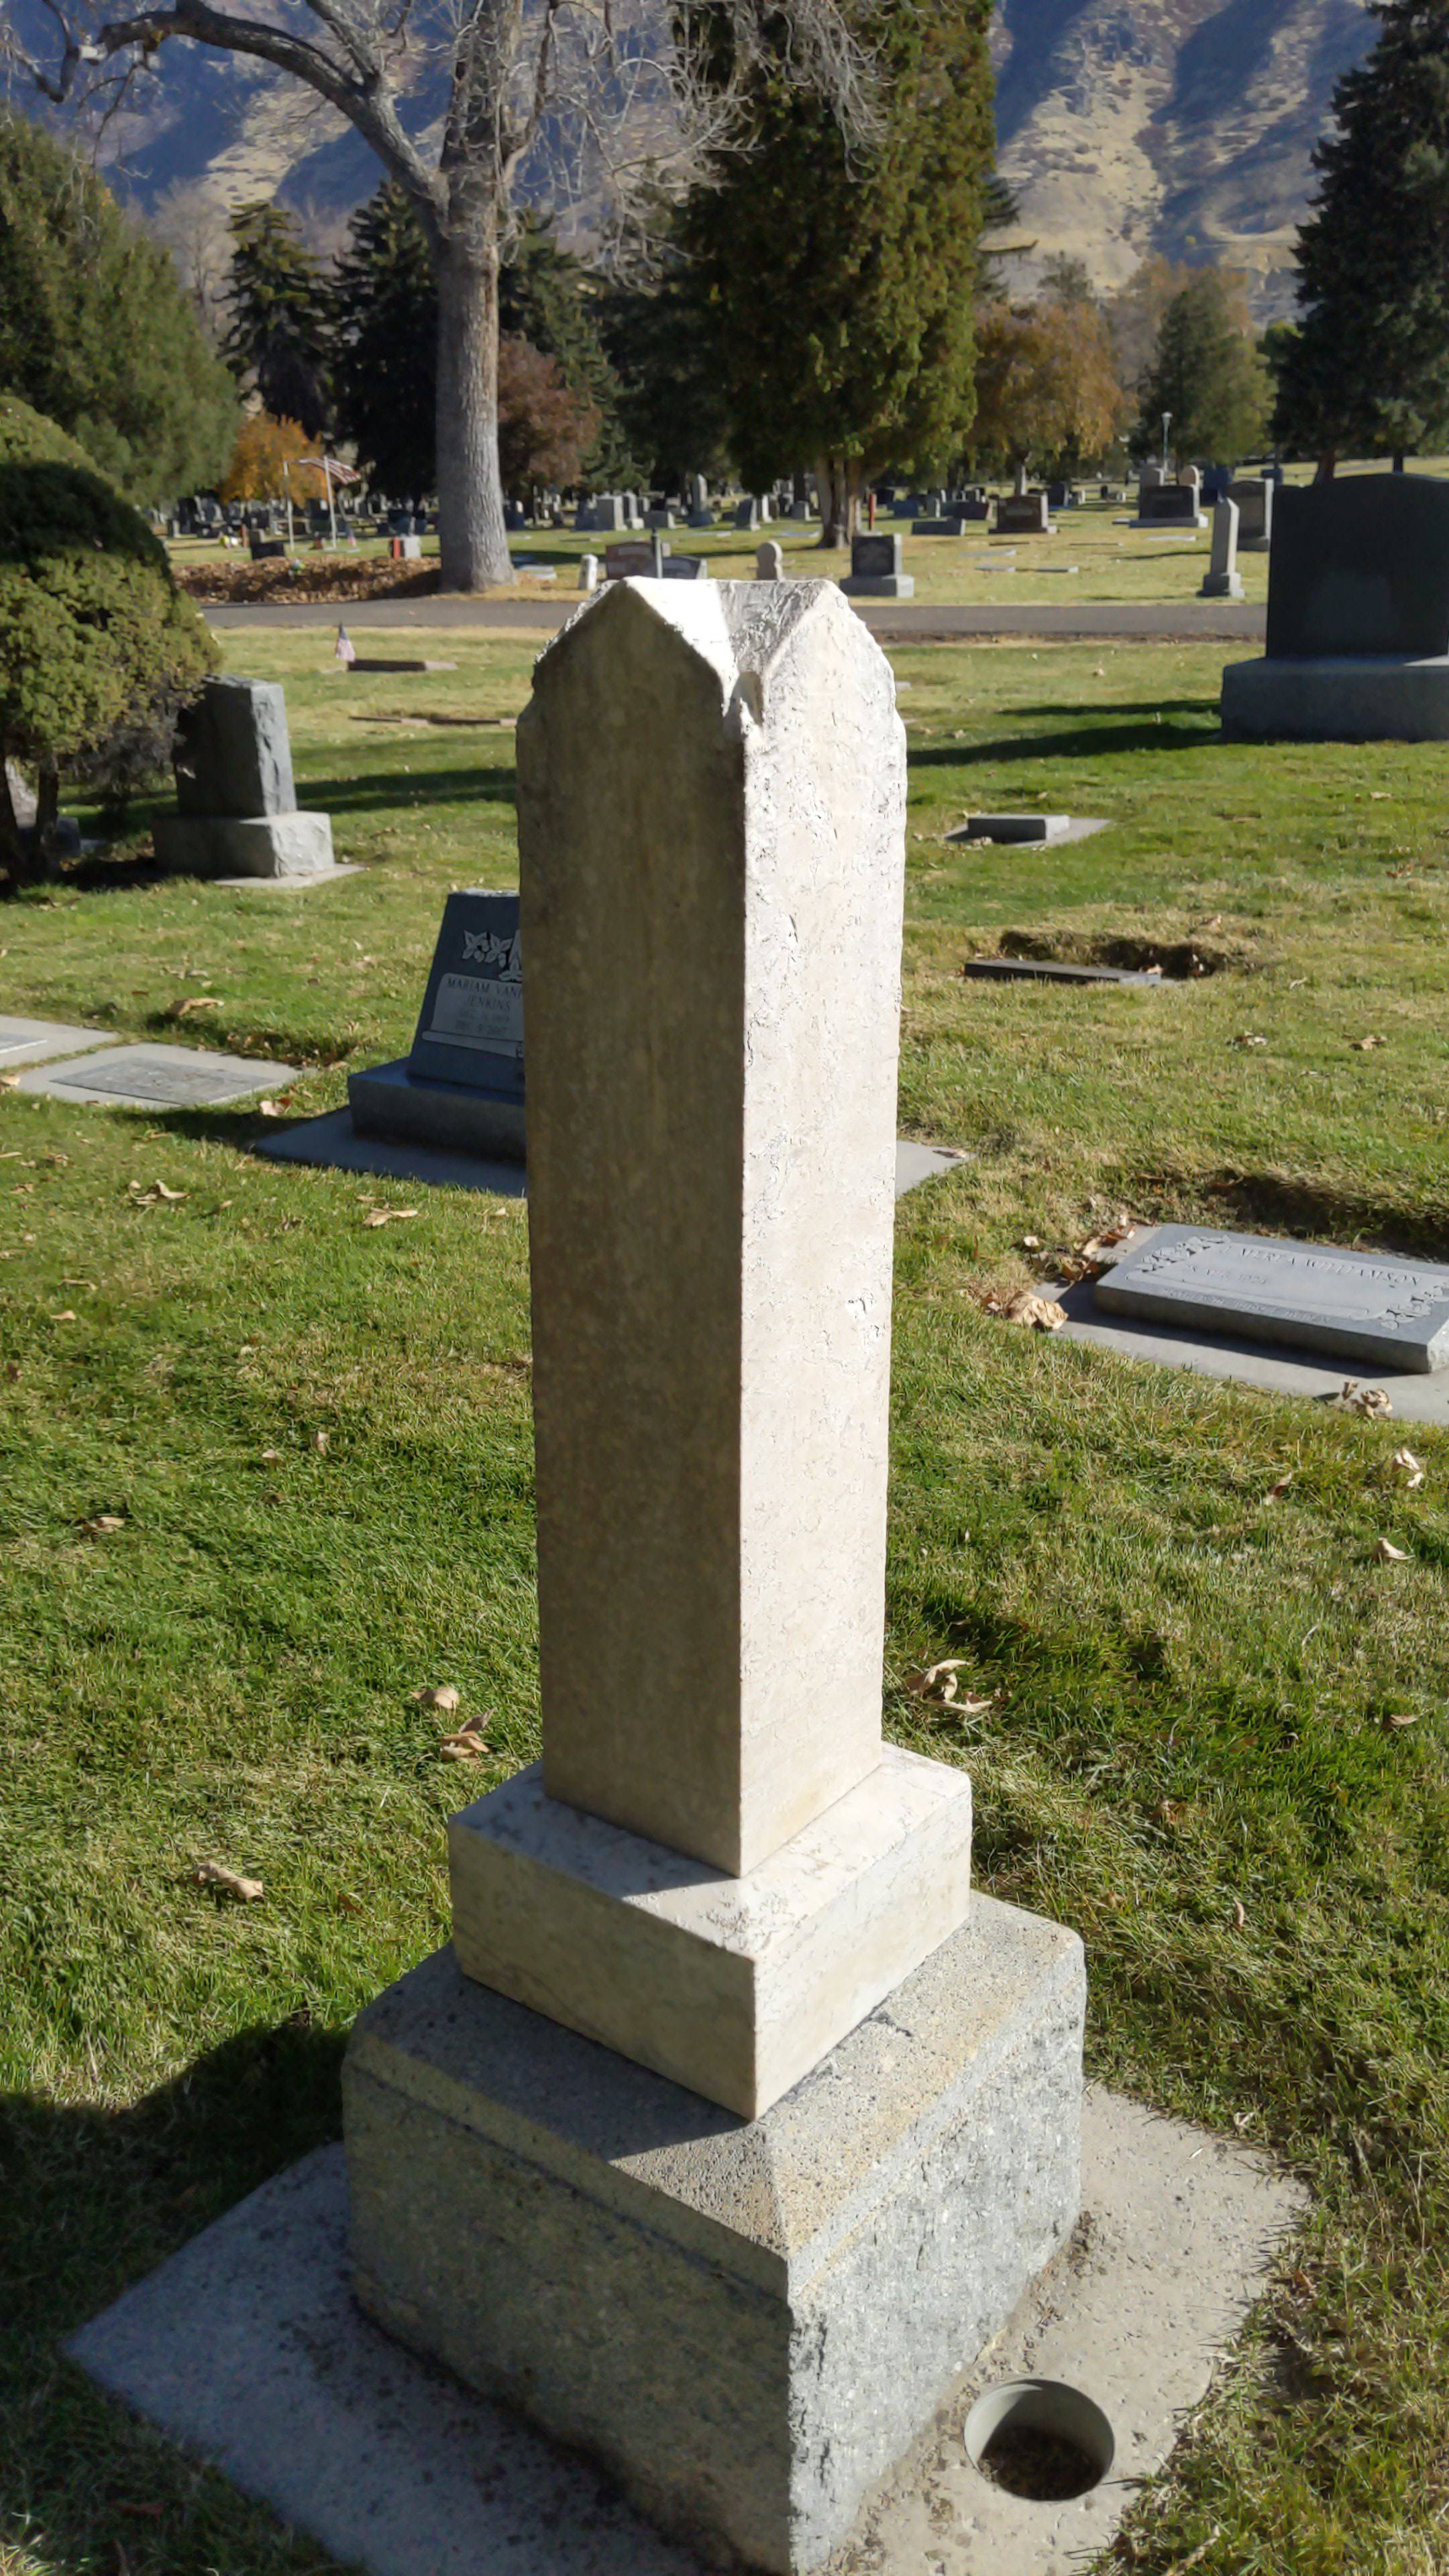obelisk: (448, 573, 973, 2123)
